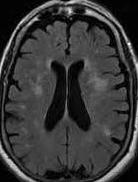Normal_Brain: (1, 1, 138, 182)
